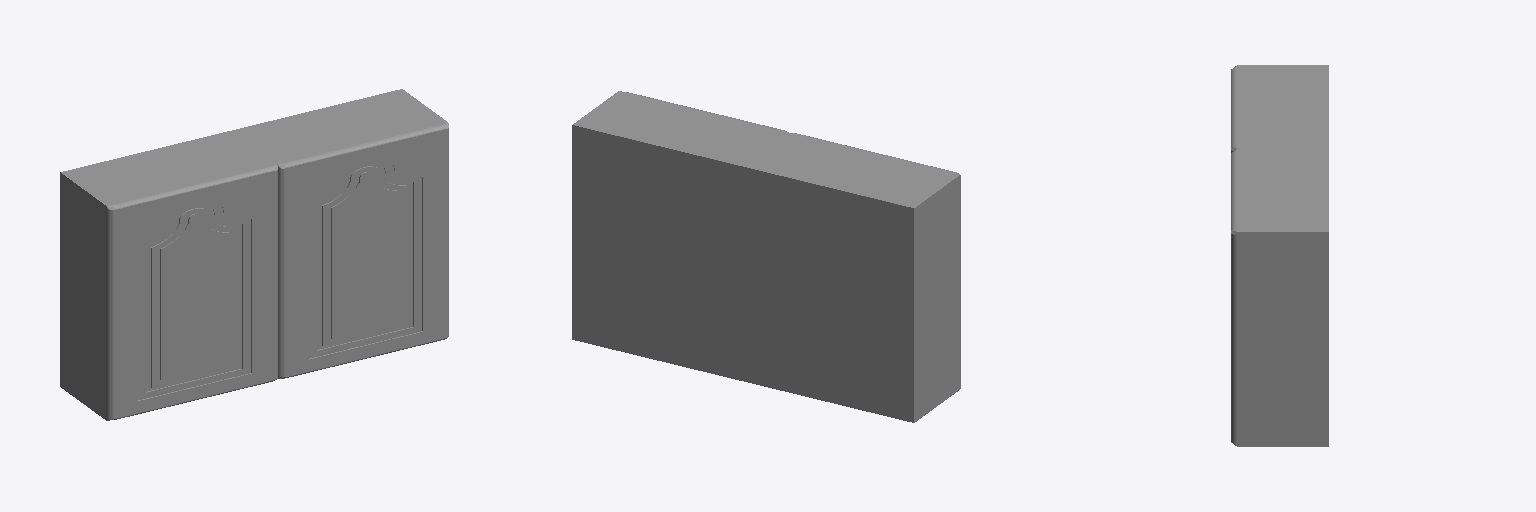
Rendered from double-wall-unit-1200.obj.
The picture shows the model from 3 angles: view 1: azimuth 30°, elevation 25°; view 2: azimuth 150°, elevation 25°; view 3: azimuth 270°, elevation 25°; orthographic projection.
Parts seen in each view (by area): view 1: Cube.003_Cube.008, Cube.004_Cube.000, Cube_Cube.002, Cube.002_Cube.004; view 2: Cube_Cube.002, Cube.002_Cube.004, Cube.001_Cube.003; view 3: Cube.001_Cube.003, Cube_Cube.002, Cube.004_Cube.000.
Part boxes in pixels (left/top/right/bottom): Cube.003_Cube.008: left=106, top=164, right=277, bottom=420; Cube.004_Cube.000: left=277, top=123, right=448, bottom=378; Cube_Cube.002: left=65, top=90, right=443, bottom=204; Cube.002_Cube.004: left=60, top=171, right=109, bottom=419; Cube_Cube.002: left=577, top=92, right=955, bottom=421; Cube.002_Cube.004: left=910, top=174, right=959, bottom=422; Cube.001_Cube.003: left=572, top=91, right=621, bottom=340; Cube.001_Cube.003: left=1237, top=230, right=1328, bottom=446; Cube_Cube.002: left=1237, top=67, right=1328, bottom=229; Cube.004_Cube.000: left=1231, top=149, right=1236, bottom=445.
Bounding box in the file's own units: 240 × 144 × 60.